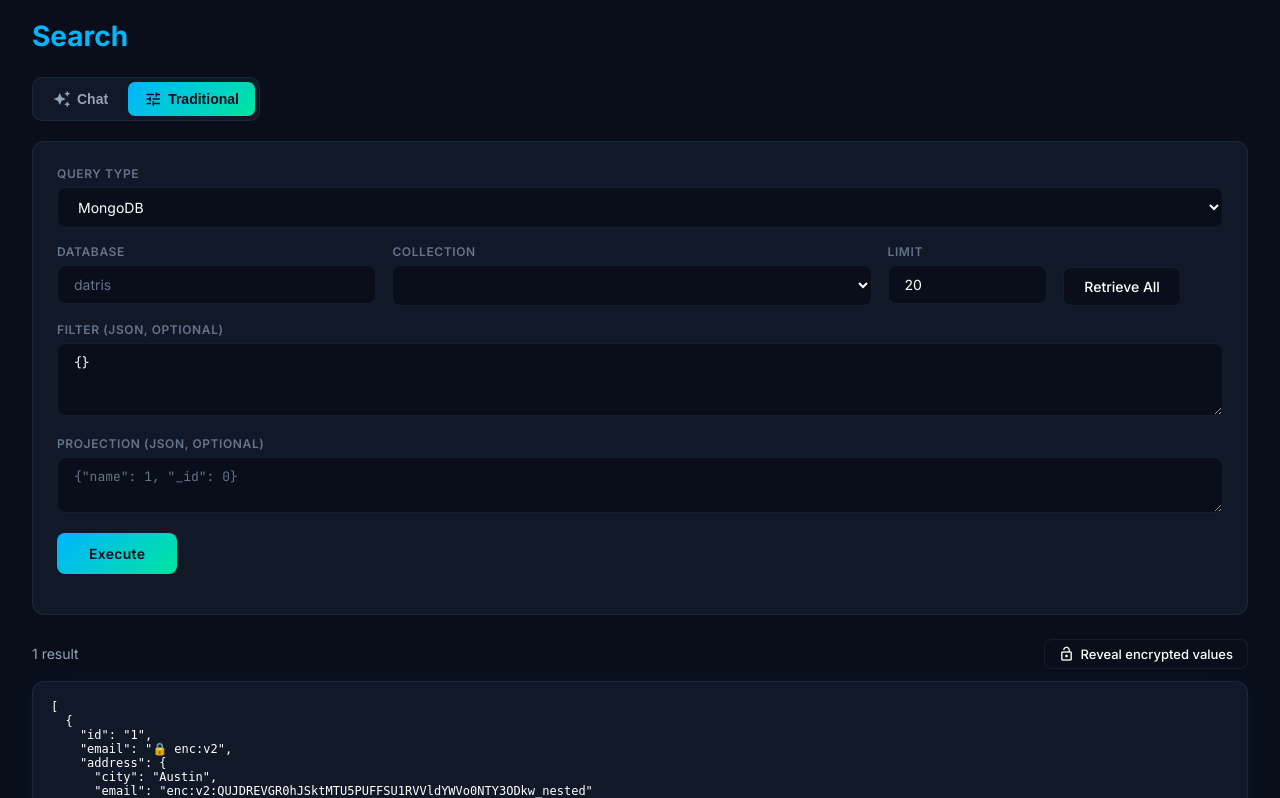
SearchComponent — field-protection reveal › nested mongodb documents keep the JSON view with top-level ciphertext swapped after reveal
This screenshot has width=1280, height=798.
Click the button with class "reveal-btn". click: {"x": 1146, "y": 654}
box: [1044, 639, 1248, 669]
(page scrolled)
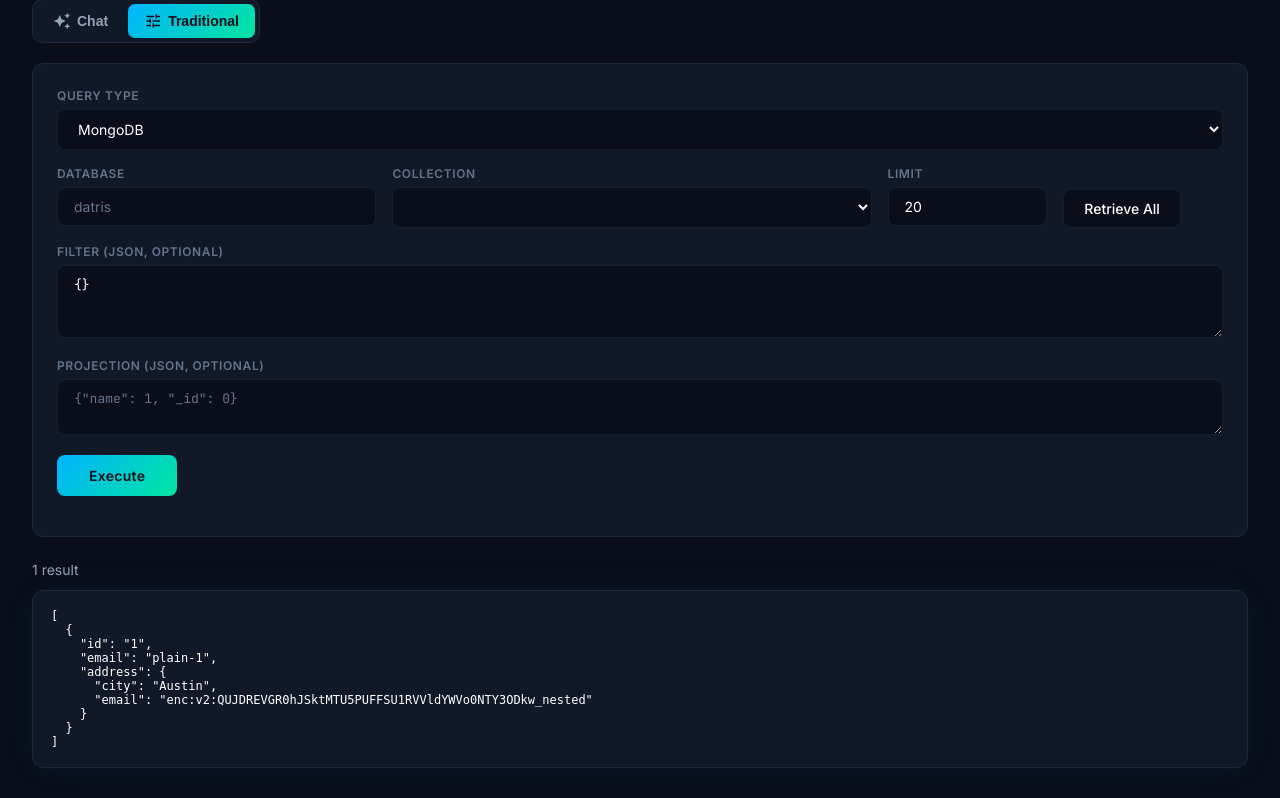
Expected: the text with class "json-results" shows "plain-1", [51, 609, 593, 749]
